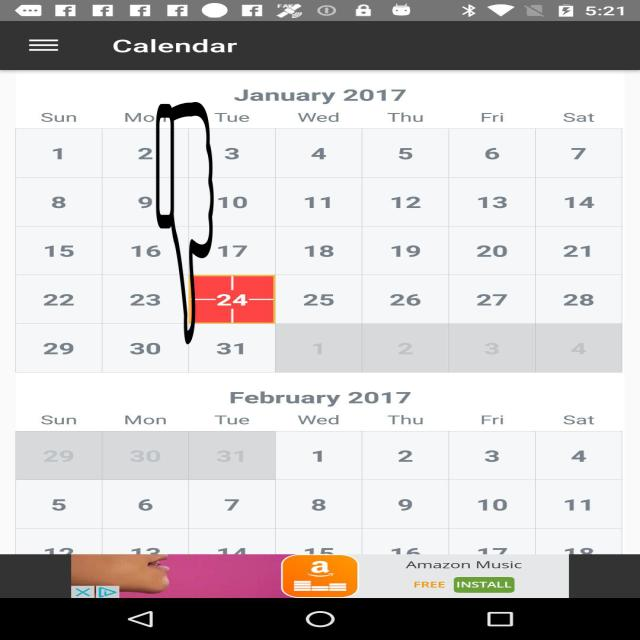obstruction: (155, 102, 215, 344)
